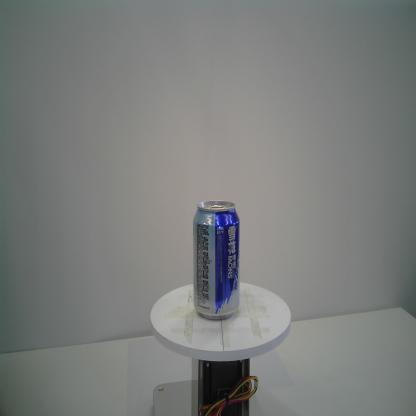Alcohol: (192, 200, 240, 320)
